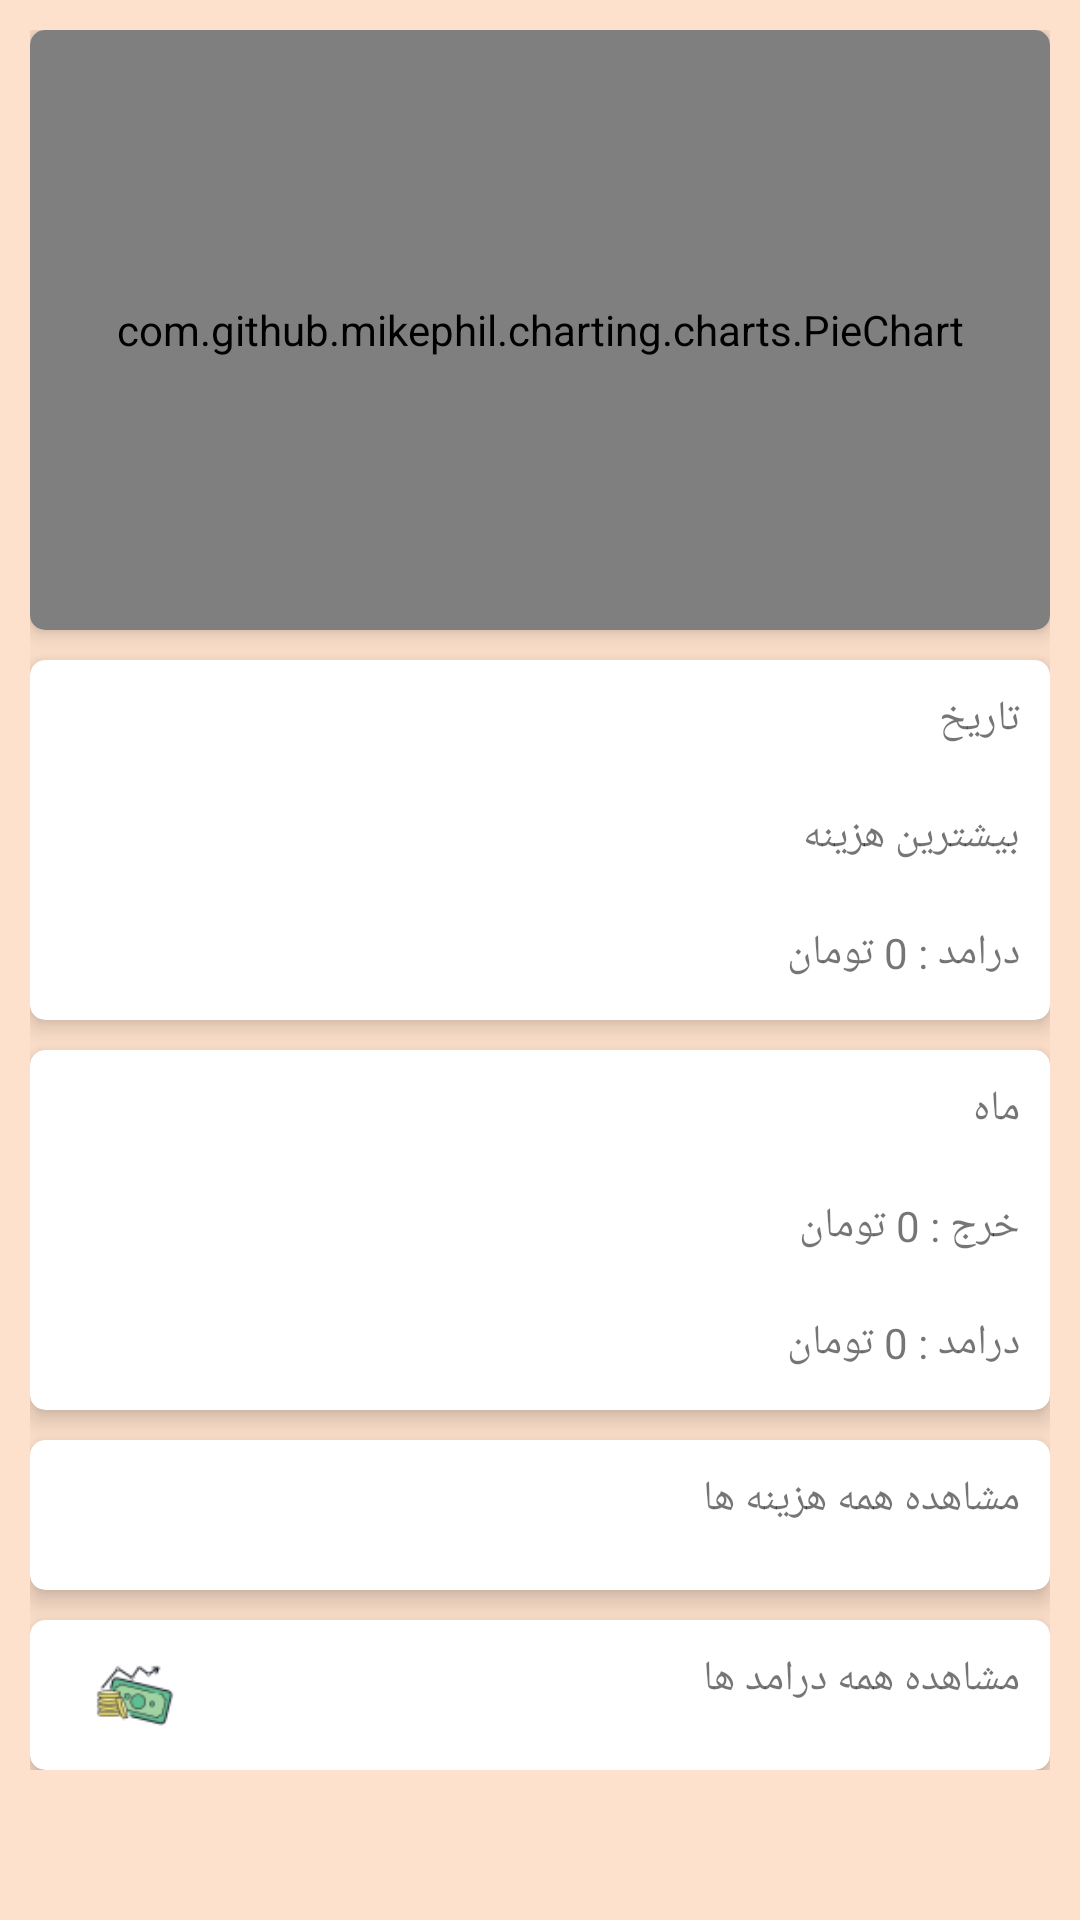

Locate icon controls on the screen. Image size 1080 x 1920, boxes as (x1, y1, x2, y2).
income: (30, 1620, 240, 1770)
